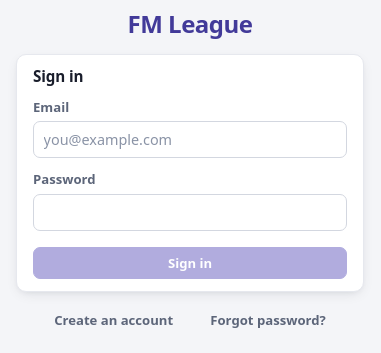
forgot-password: emails a link and shows the confirmation
Click the button "Forgot password?".
click(268, 320)  # box x1=196 y1=304 x2=340 y2=336
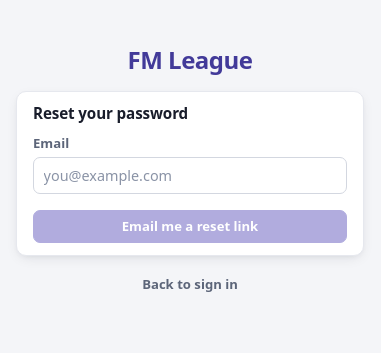
Type "boss@club.io" into the field labelled "Email".
click(190, 176); type("boss@club.io")  # box x1=33 y1=157 x2=347 y2=194
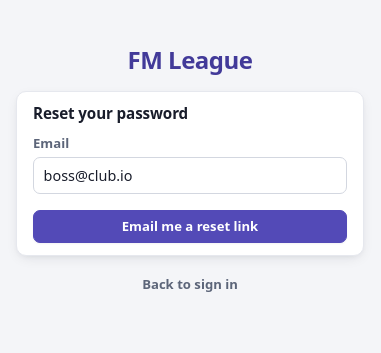
Click the button "Email me a reset link".
click(190, 227)  # box x1=33 y1=210 x2=347 y2=243
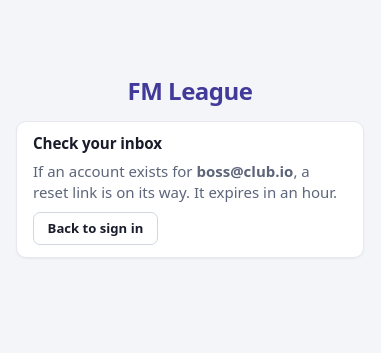
Expected: the heading "Check your inbox" is shown, x1=33 y1=133 x2=162 y2=153
